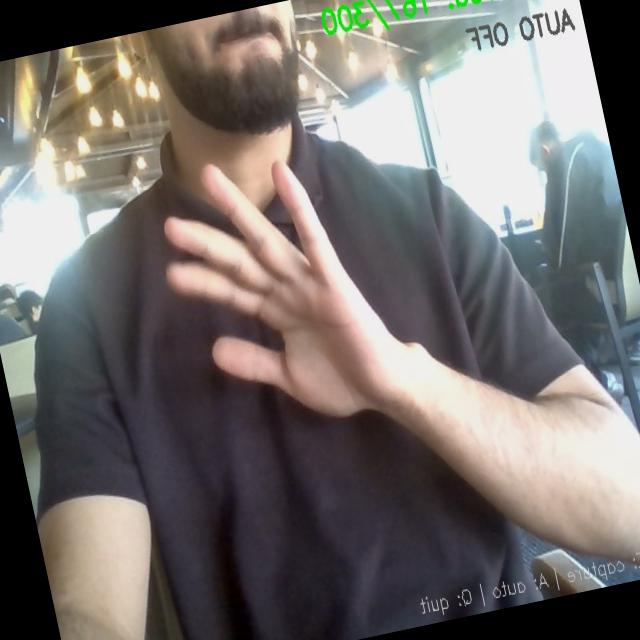Hand: (165, 162, 404, 416)
